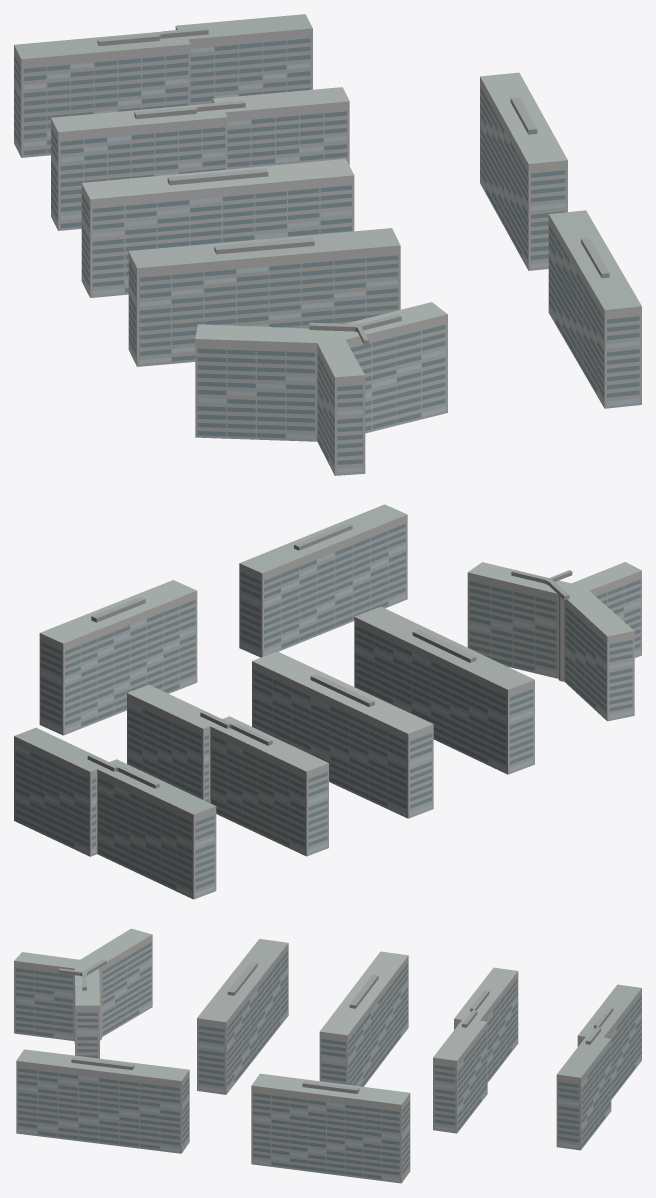
The model's file is apt-a13511201.glb.
3 renders of one model, top to bottom at view 1: azimuth 30°, elevation 25°; view 2: azimuth 150°, elevation 25°; view 3: azimuth 270°, elevation 25°, orthographic. The views are drawn at different scales.
Visible parts, largest first — view 1: apt-a13511201; view 2: apt-a13511201; view 3: apt-a13511201.
Part boxes in pixels (bbox=[...]): apt-a13511201: bbox=[14, 14, 641, 475]; apt-a13511201: bbox=[14, 504, 641, 899]; apt-a13511201: bbox=[14, 928, 641, 1183].
Size of the model in its own units: 197 by 41.43 by 287.
